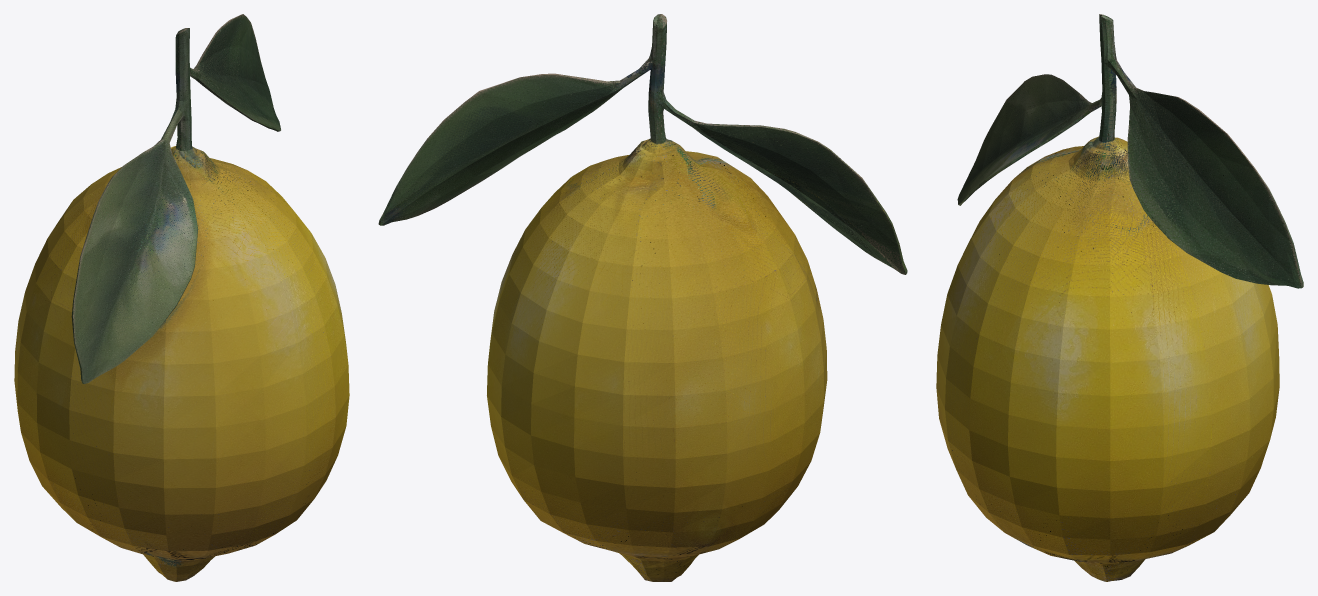
The model's file is lemon.glb.
3 views of the same model, side by side, from view 1: azimuth 30°, elevation 25°; view 2: azimuth 150°, elevation 25°; view 3: azimuth 270°, elevation 25° (orthographic). The views are drawn at different scales.
Size of the model in its own units: 0.8041 by 1.2 by 0.7041.
Materials: 1 (1 with a texture image).
